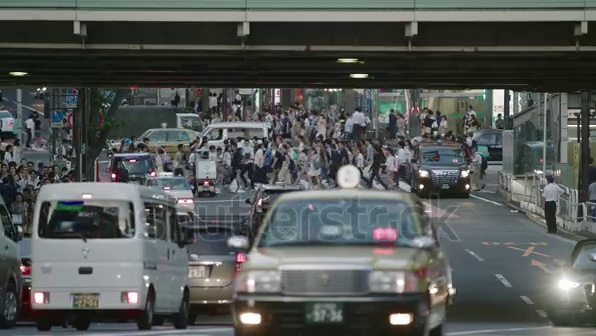licenseplate: (305, 304, 342, 327), (72, 294, 102, 307)
